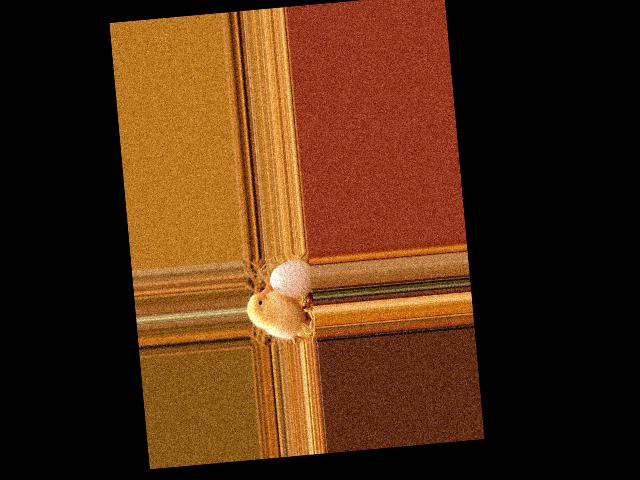egg: (268, 259, 313, 299)
